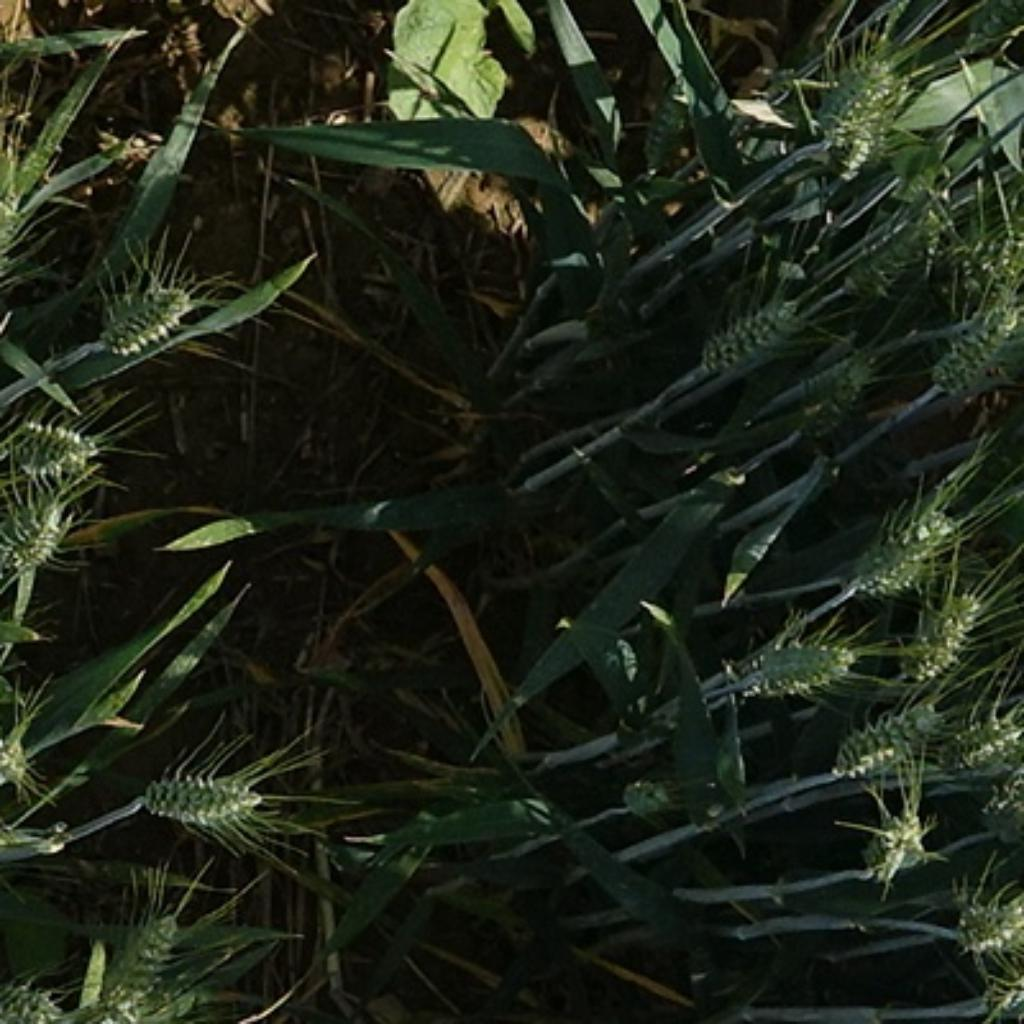0-0: (834, 483, 972, 604), (80, 901, 213, 1024), (924, 281, 1021, 417), (837, 192, 942, 302), (84, 261, 199, 360), (808, 40, 901, 161), (693, 284, 814, 376), (721, 622, 862, 698), (829, 693, 947, 780), (931, 696, 1024, 796), (821, 102, 921, 194), (898, 583, 988, 683), (140, 764, 269, 829), (799, 362, 893, 447), (2, 407, 104, 481), (0, 486, 76, 573), (855, 801, 934, 883), (948, 883, 1024, 960)
